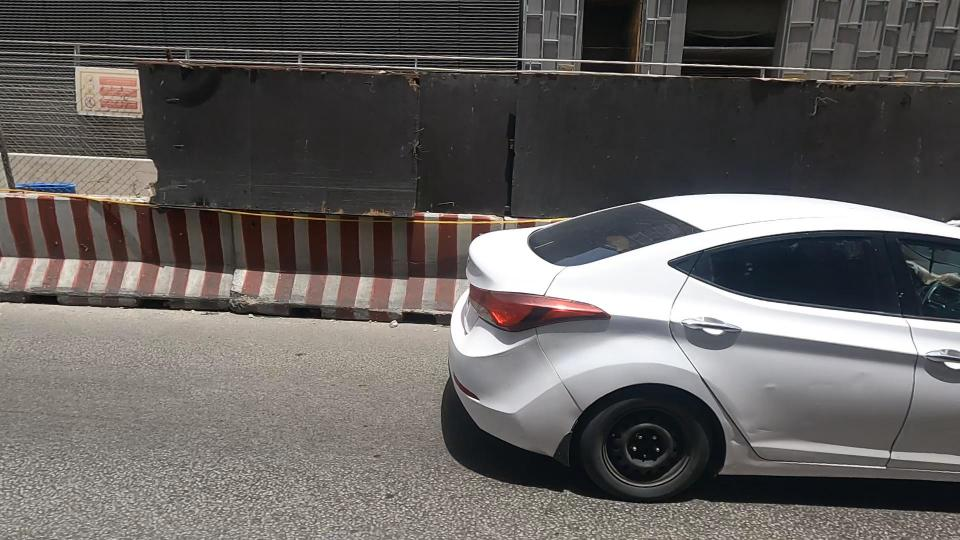CONSTRUCTION_ROAD: (0, 12, 544, 401)
